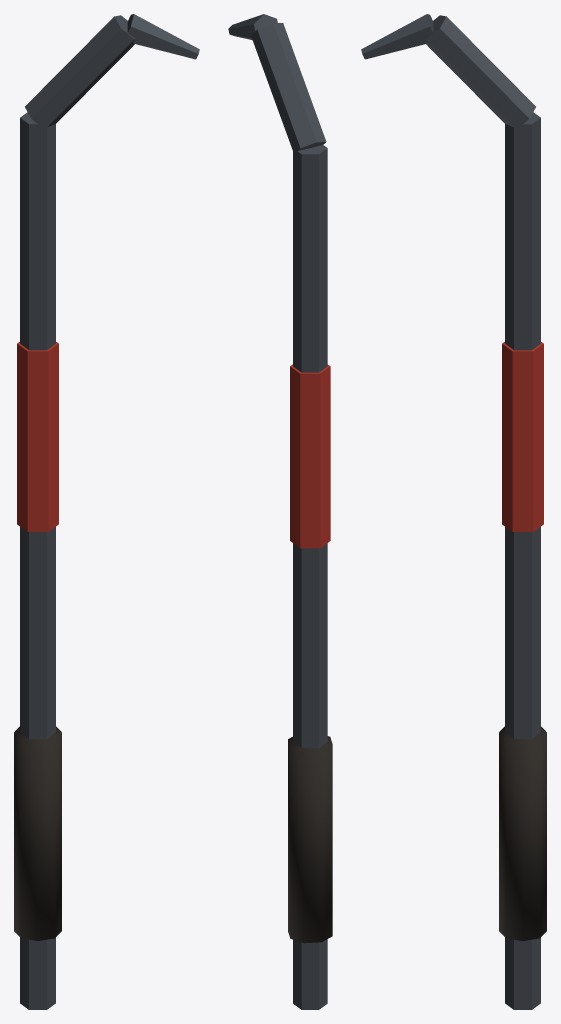
Rendered from weapon_linggis.glb.
3 renders of one model, left to right at view 1: azimuth 90°, elevation 25°; view 2: azimuth 210°, elevation 25°; view 3: azimuth 270°, elevation 25°, orthographic. The views are drawn at different scales.
Parts seen in each view (by area): view 1: pickup_linggis; view 2: pickup_linggis; view 3: pickup_linggis.
Part boxes in pixels (bbox=[...]): pickup_linggis: bbox=[14, 14, 199, 1009]; pickup_linggis: bbox=[228, 14, 332, 1009]; pickup_linggis: bbox=[361, 14, 546, 1009].
Size of the model in its own units: 0.048 by 1.09 by 0.1864.
